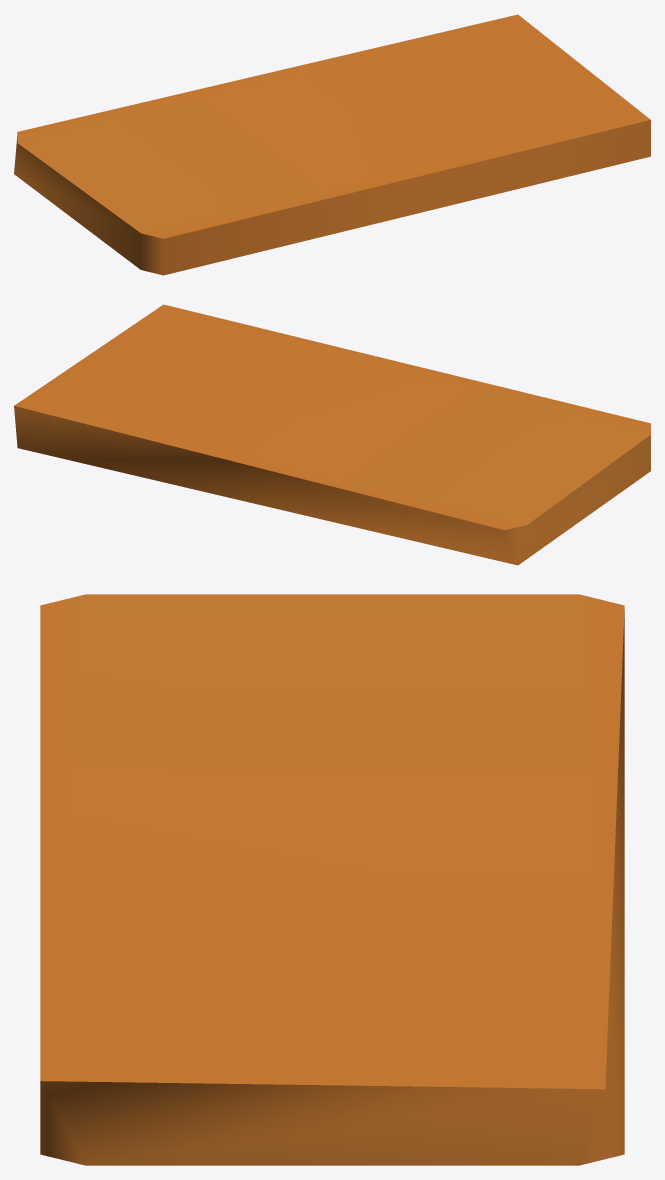
3 renders of one model, top to bottom at view 1: azimuth 30°, elevation 25°; view 2: azimuth 150°, elevation 25°; view 3: azimuth 270°, elevation 25°, orthographic. The views are drawn at different scales.
Parts seen in each view (by area): view 1: LOD 2_7040328769381660891_78e382a95436ca24cb13f2e28dcea642; view 2: LOD 2_7040328769381660891_78e382a95436ca24cb13f2e28dcea642; view 3: LOD 2_7040328769381660891_78e382a95436ca24cb13f2e28dcea642.
Boxes of the visible parts, left/top/right/bottom form: LOD 2_7040328769381660891_78e382a95436ca24cb13f2e28dcea642: left=14, top=14, right=650, bottom=275; LOD 2_7040328769381660891_78e382a95436ca24cb13f2e28dcea642: left=14, top=304, right=650, bottom=565; LOD 2_7040328769381660891_78e382a95436ca24cb13f2e28dcea642: left=40, top=594, right=624, bottom=1165.
Size of the model in its own units: 2.24 by 0.154 by 1.11.
